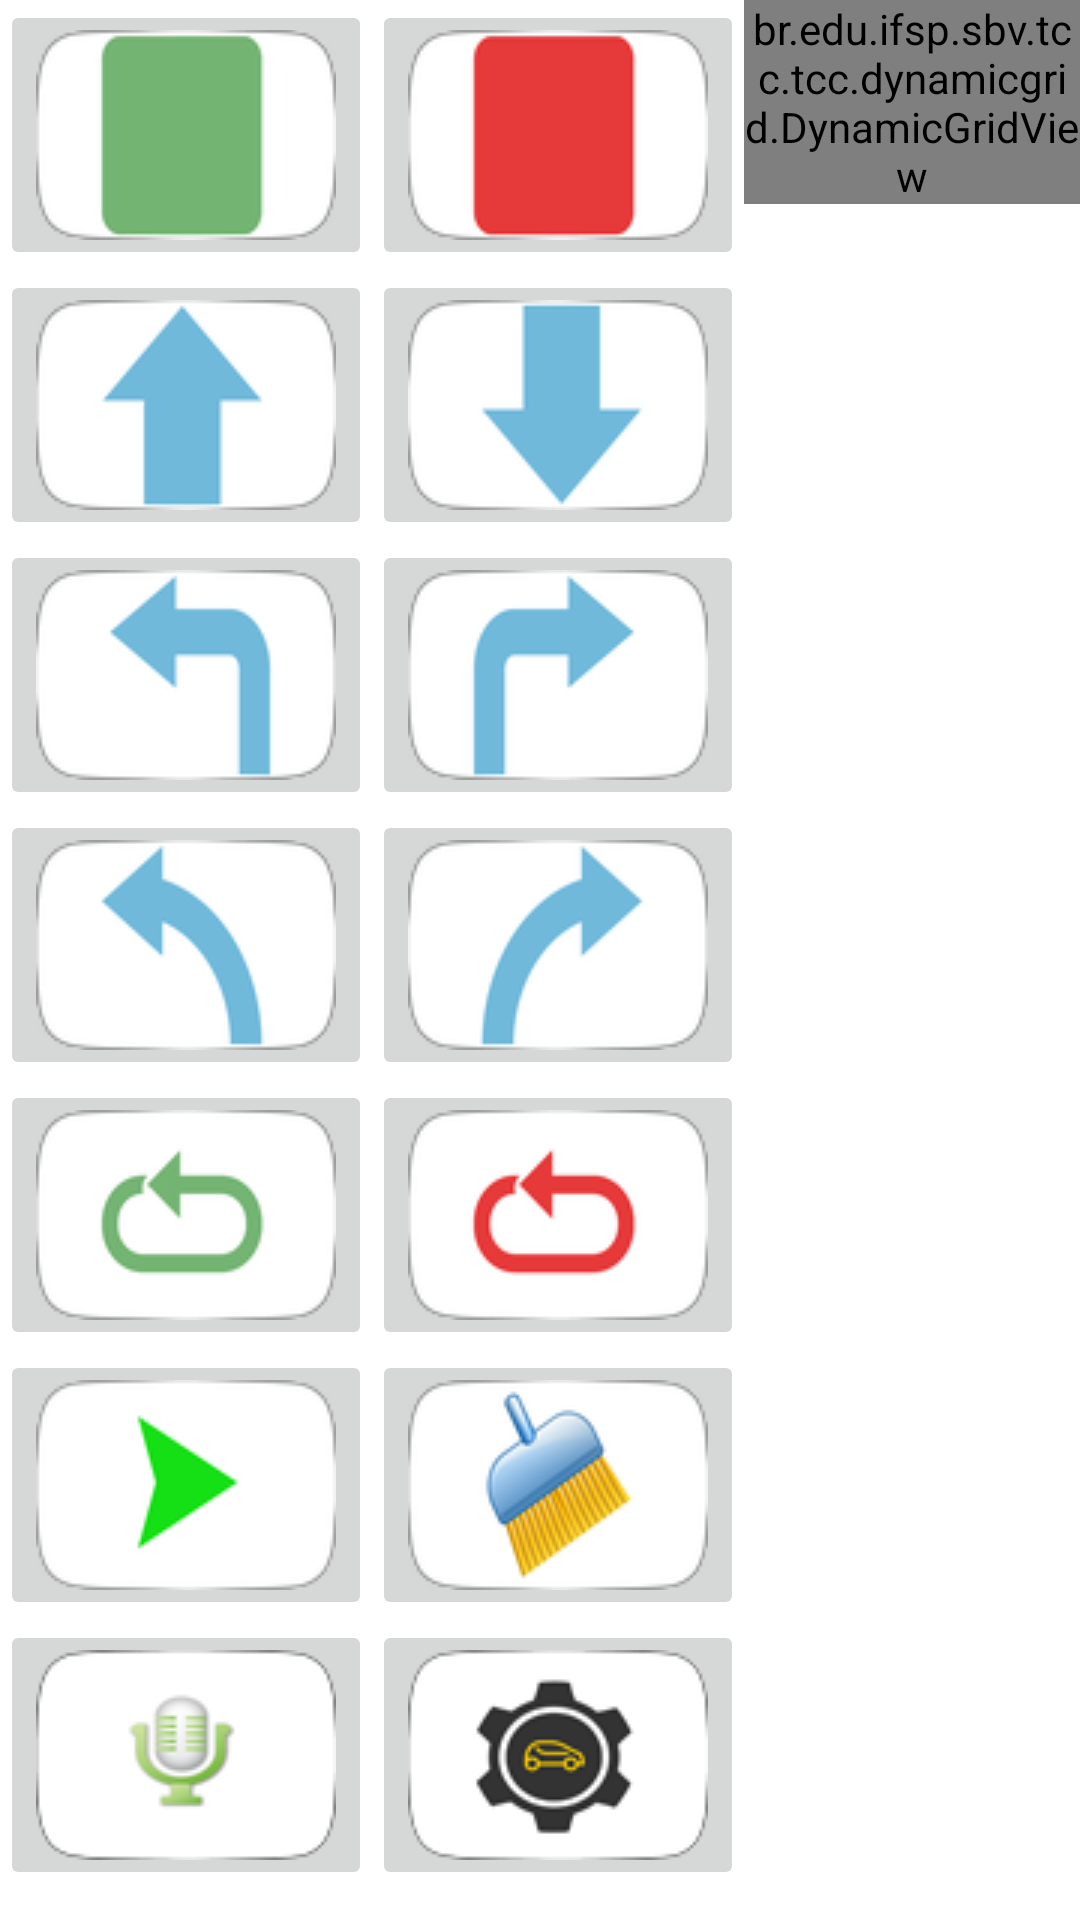

Point at icon controls on the screen. Image size 1080×1920, points as [x,y].
backward: [558,405]
car config: [558,1755]
clean: [558,1485]
forward: [186,405]
left: [186,675]
loop finish: [558,1215]
loop start: [186,1215]
mic: [186,1755]
play: [186,1485]
right: [558,675]
turn left: [186,945]
turn right: [558,945]
